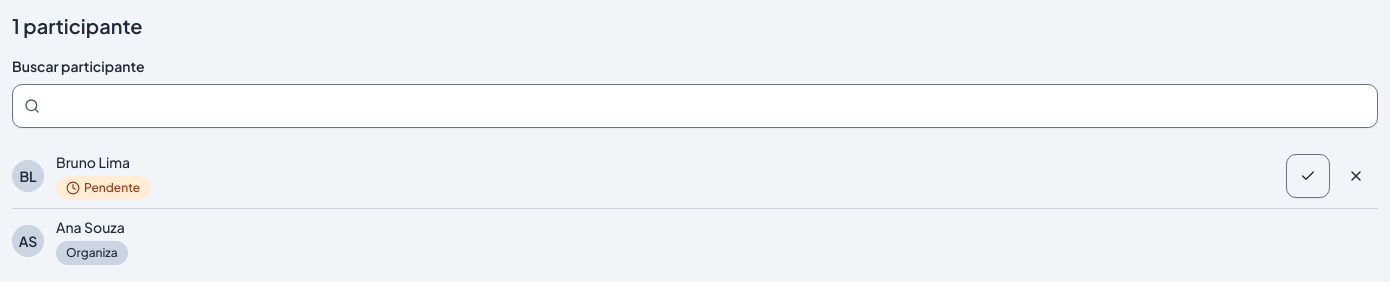
Test: MemberActions › Aprovar chama a API e recarrega a lista
Step 1. Click the button named "Aprovar Bruno Lima" → coordinates (1308, 176), box [1286,154,1330,198]
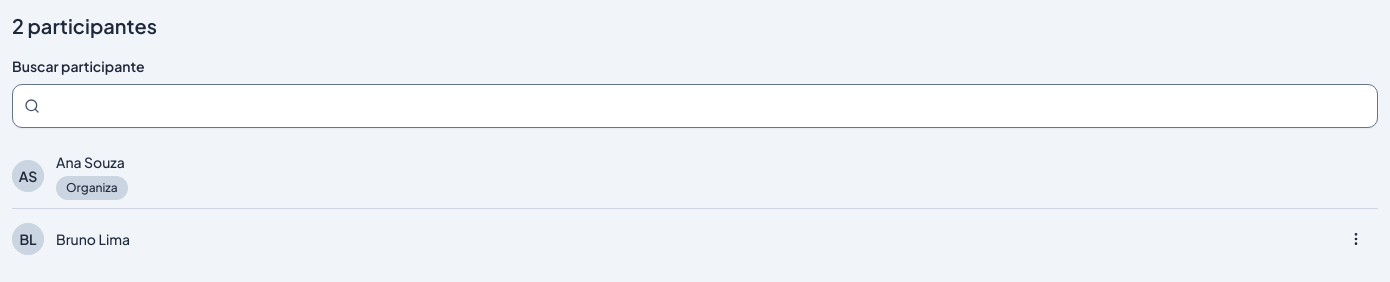
Expected: the text "Pendente" is gone
Expected: the heading "2 participantes" is shown, [12,13,157,38]
